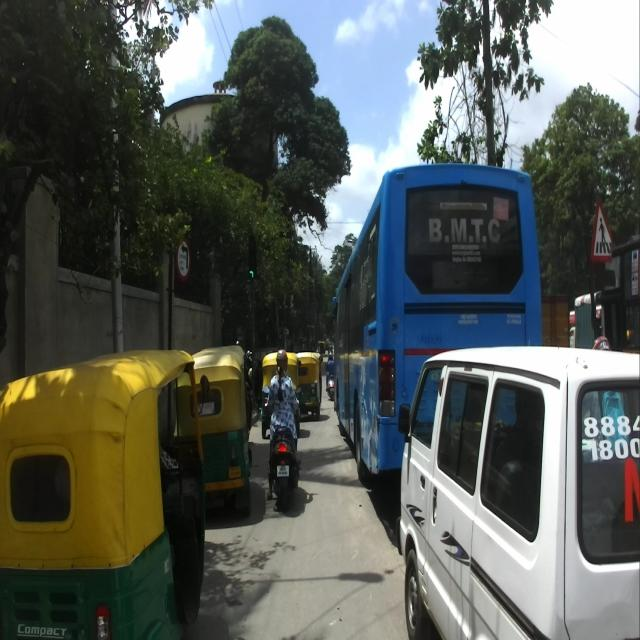autorickshaw: (0, 349, 209, 637), (186, 341, 250, 517)
bus: (328, 163, 542, 492)
car: (395, 340, 639, 638)
scooter: (262, 381, 302, 511)
